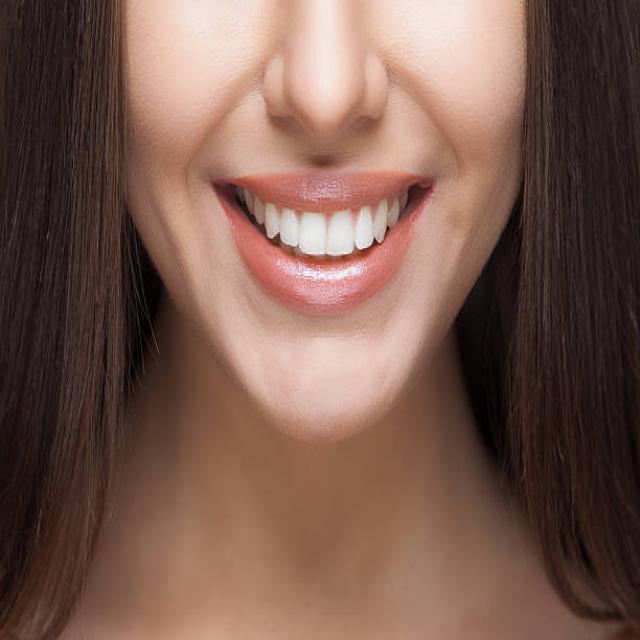tooth: (299, 210, 325, 260), (330, 213, 356, 256), (356, 204, 378, 251), (281, 212, 300, 252), (374, 204, 389, 238), (266, 205, 280, 240), (239, 185, 255, 212), (255, 202, 263, 222)
